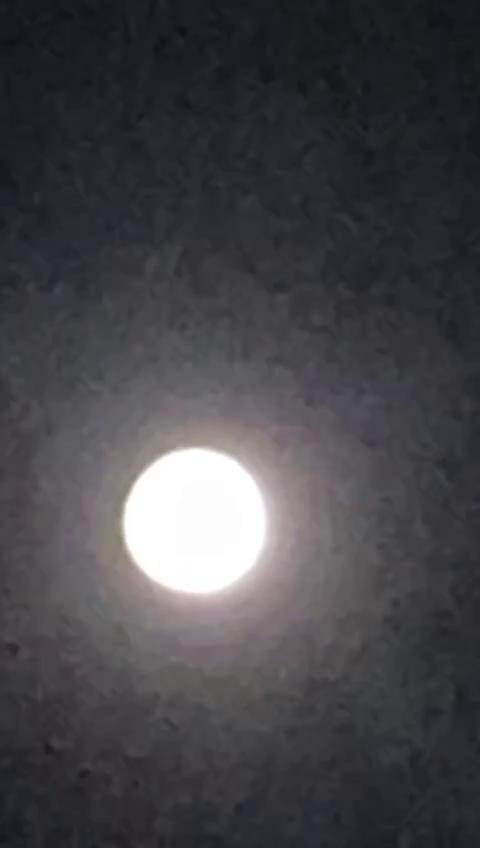moon: (55, 479, 227, 670)
